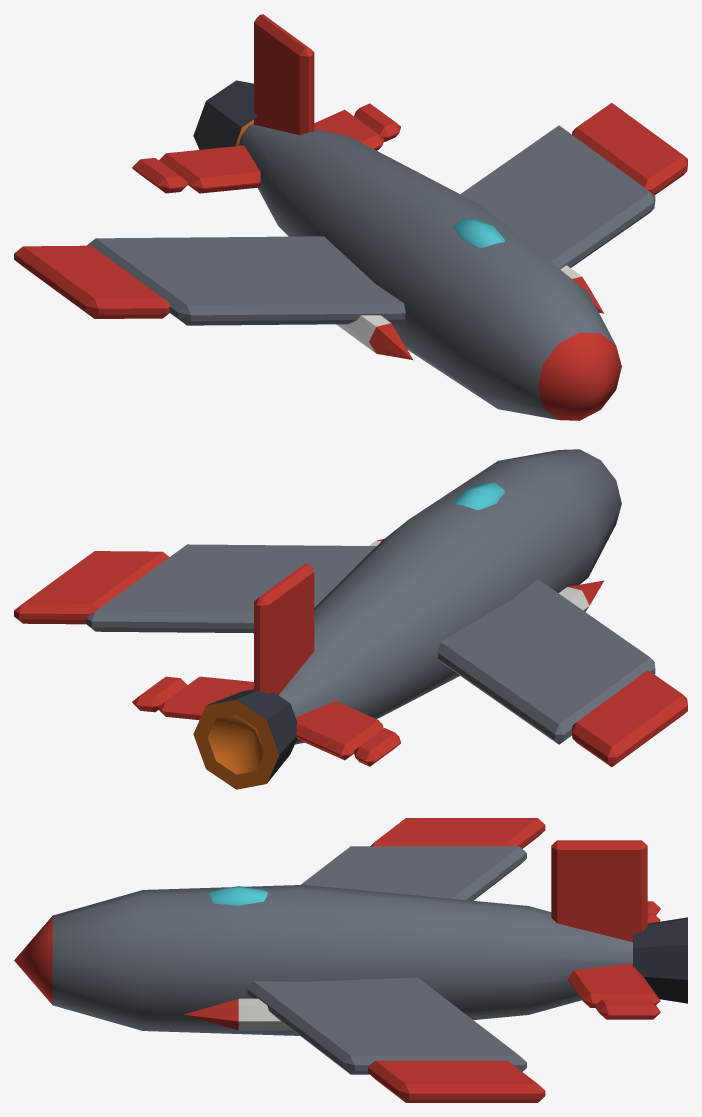
The picture shows the model from 3 angles, top to bottom: view 1: azimuth 30°, elevation 25°; view 2: azimuth 150°, elevation 25°; view 3: azimuth 270°, elevation 25°; orthographic projection. The views are drawn at different scales.
Parts seen in each view (by area): view 1: as_0_base; view 2: as_0_base; view 3: as_0_base.
Boxes of the visible parts, box(x1,y1,x2,y2) form: as_0_base: box(14, 14, 687, 420); as_0_base: box(14, 449, 687, 789); as_0_base: box(14, 818, 687, 1102).
Size of the model in its own units: 1.05 by 0.3391 by 1.1.
